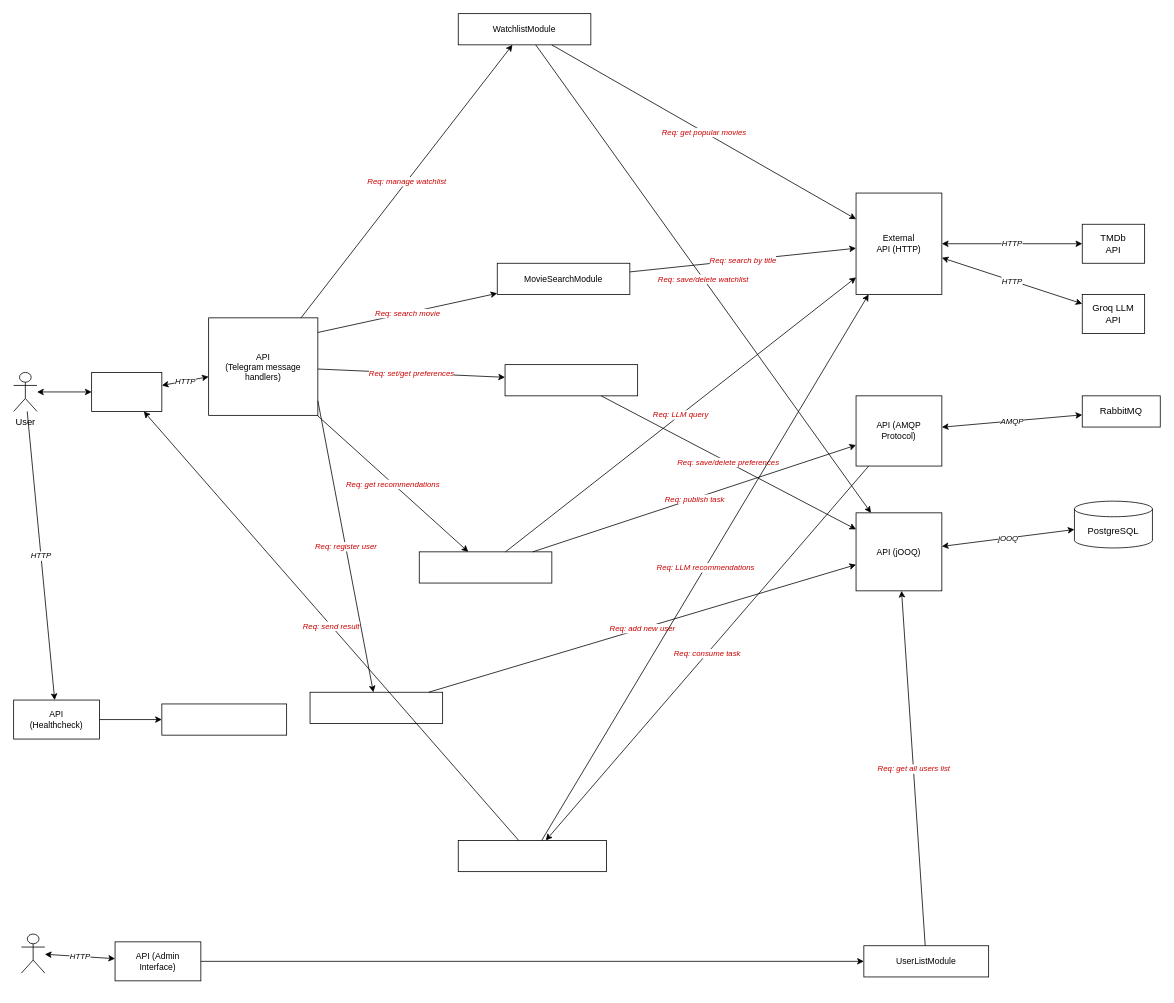
Some shapes in this 1174 by 1003 pixel diagram are drawn without their labels. The shapes that lost their labels are listed below. From the top down, each one's centre as x and y in pixels, then its label:
the point at 126,391: Telegram Bot
the point at 571,380: PreferencesModule
the point at 485,567: RecommendationModule
the point at 224,719: HealthCheckModule
the point at 376,707: UserAuthModule
the point at 531,856: RecommendationConsumer
the point at 33,953: Admin
